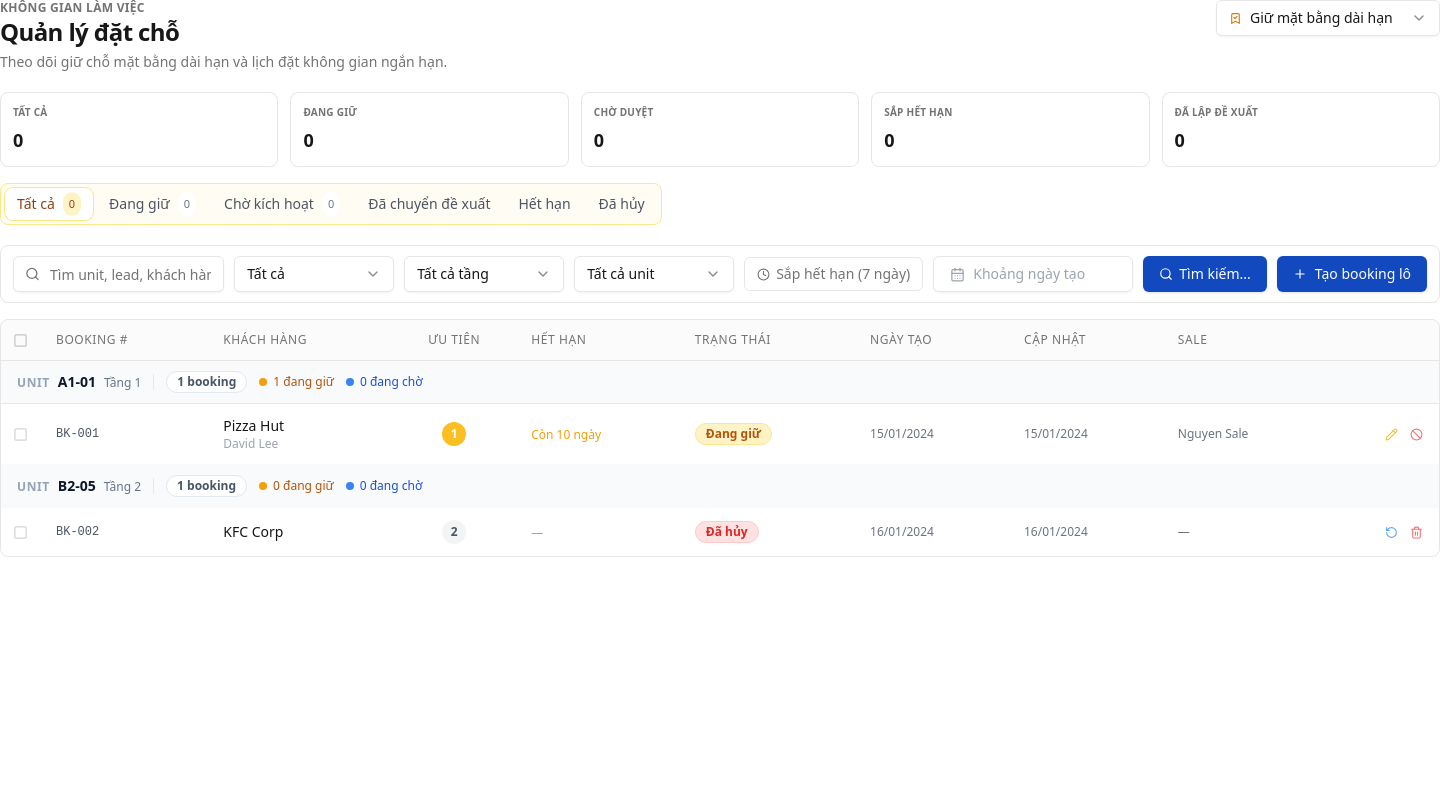
BookingsPage — delete booking › clicking delete button opens confirm dialog
Click the button titled "Xóa": (1416, 532) x1=1406 y1=522 x2=1427 y2=542
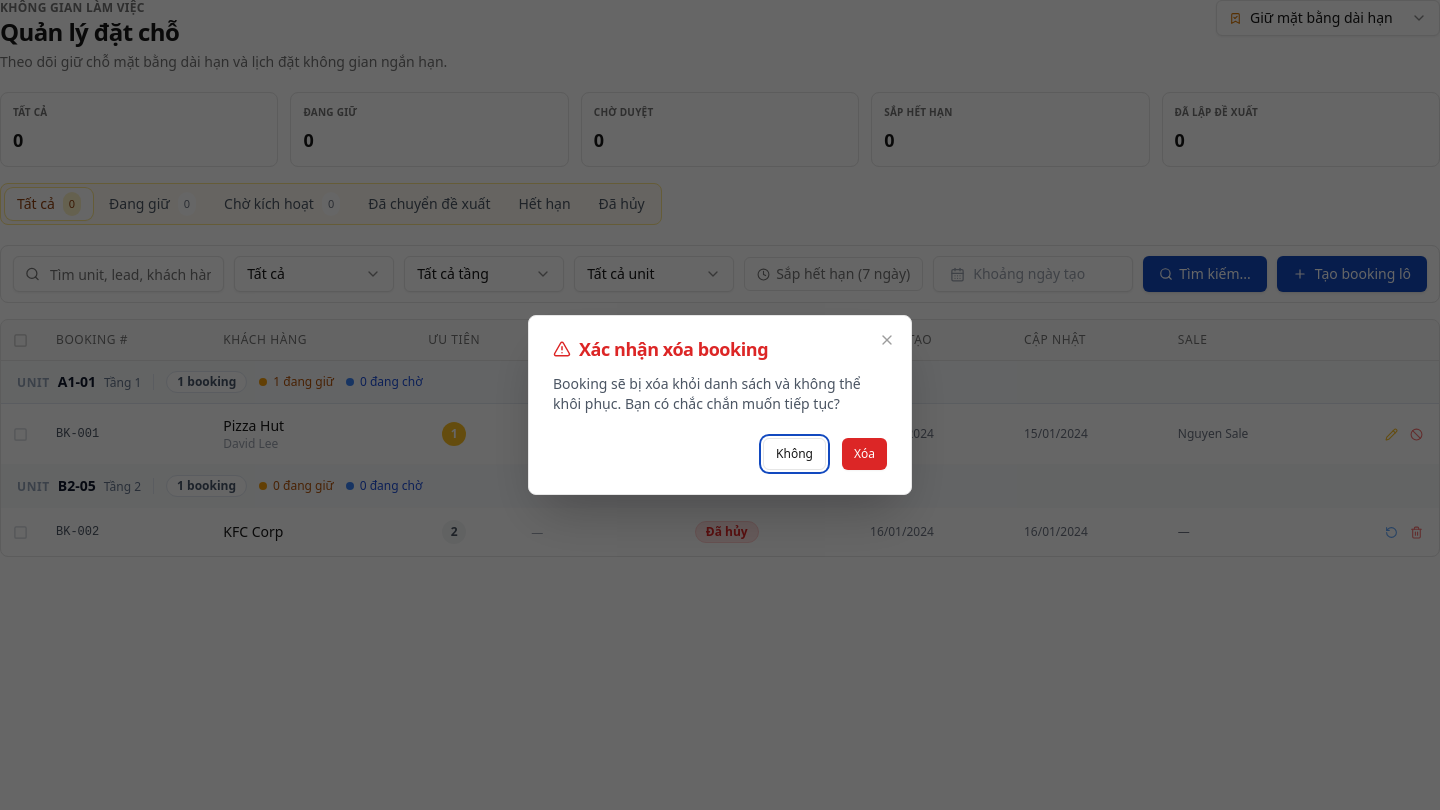
Expected: the heading "Xác nhận xóa booking" is shown, x1=553 y1=337 x2=768 y2=361
